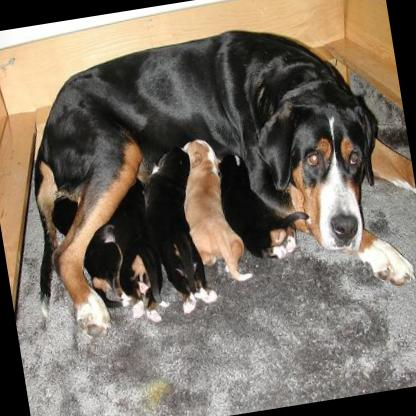Greater_Swiss_Mountain_dog: (0, 3, 416, 343)
